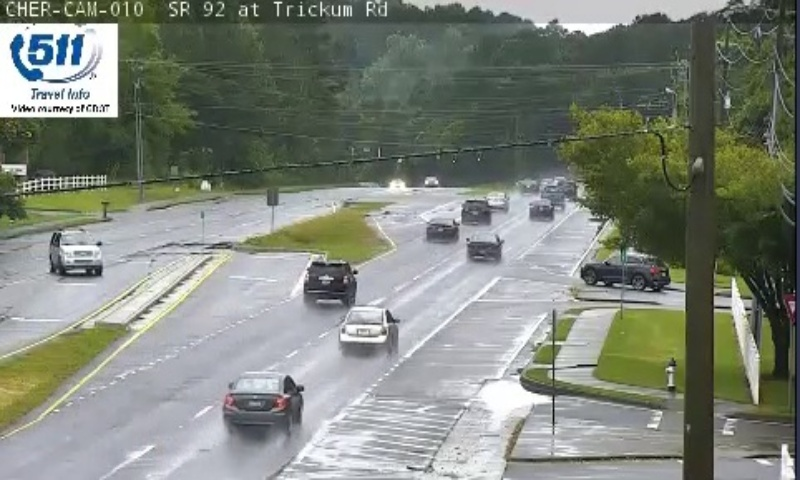car: (222, 373, 303, 427), (338, 304, 398, 346), (302, 261, 356, 297), (466, 230, 502, 258), (424, 218, 458, 241), (459, 198, 489, 221), (528, 198, 555, 222), (482, 191, 509, 211)
